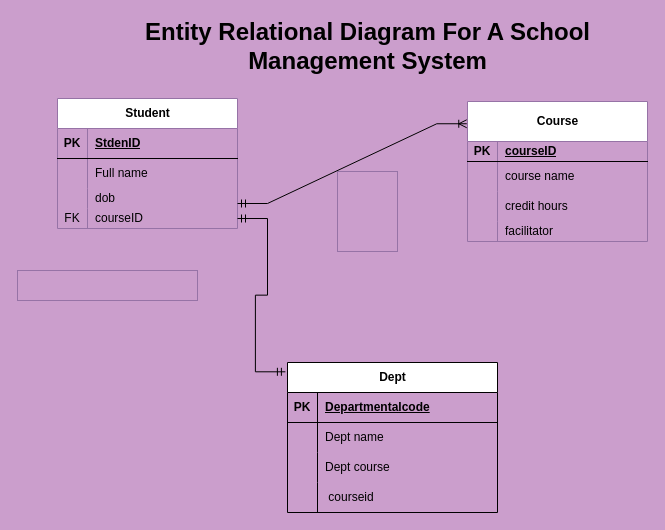
The diagram is 665 pixels wide and 530 high, and some of its shapes have lost their labels. The shapes that lost their labels are listed below. From the top down, each one's centre as x and y in pixels, then its label:
[367,211]: Note: 1 mandatory to many mandatory
[107,285]: Notice: PK -primary key FK - foreign key
